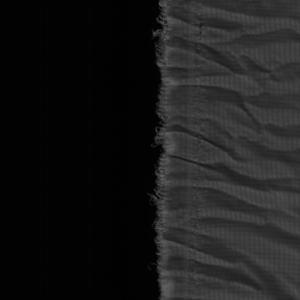Damage: (148, 1, 170, 300)
Wrinkle: (175, 1, 300, 300)
